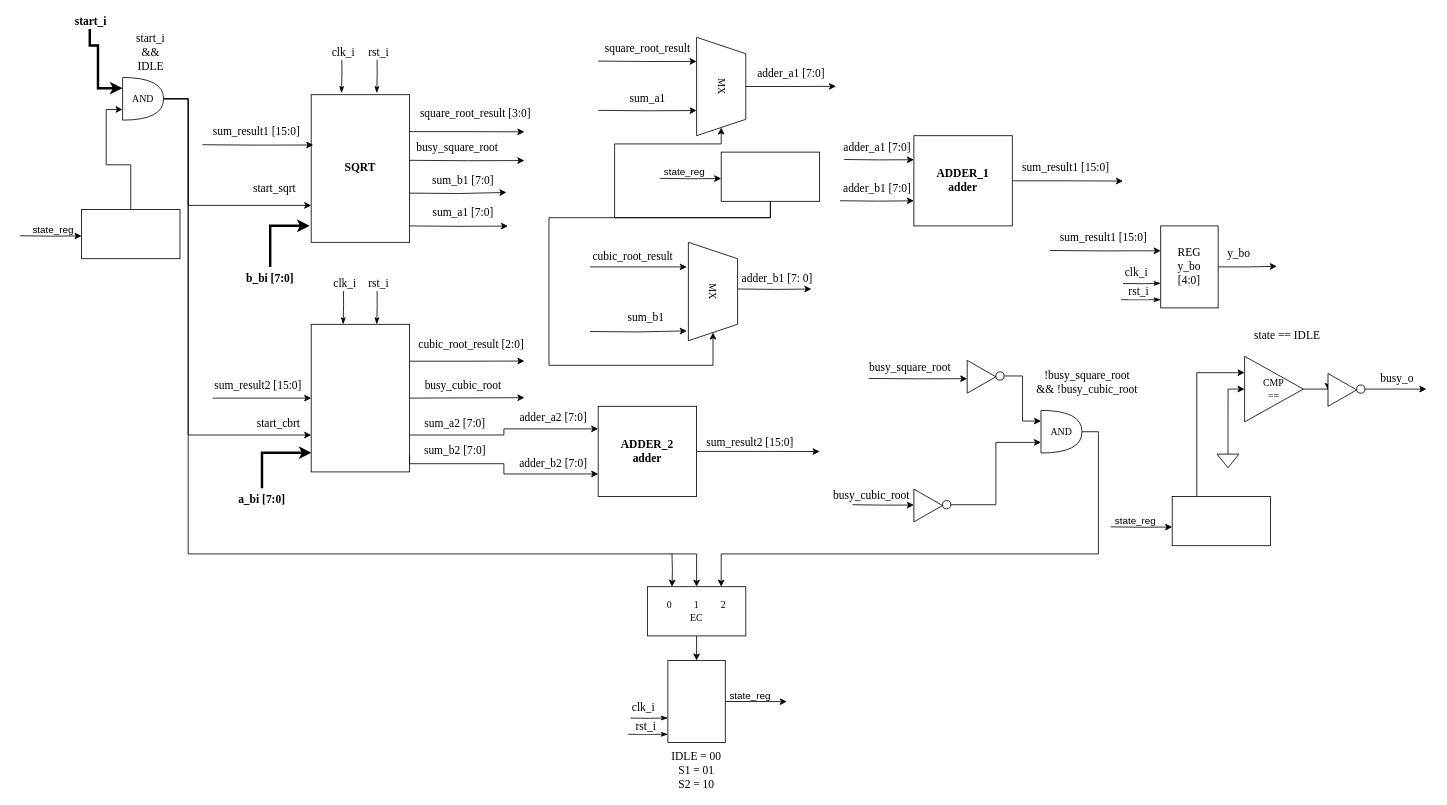
The diagram is 1447 pixels wide and 805 high, and some of its shapes have lost their labels. Here are the shapes that lost their labels. From the top down, the box of each, then its label:
(720, 151, 820, 201): DС OUT = 0 IF IN=10 OUT = 1 IF IN =01
(81, 209, 180, 259): DС OUT = 1 IF IN=00
(310, 323, 410, 472): CBRT 1 multiplier
(1171, 496, 1271, 546): DС OUT = 0 IF IN=00 OUT = 1 IF IN=01 OUT = 1 IF IN=10
(667, 660, 725, 743): REG state [1:0]
